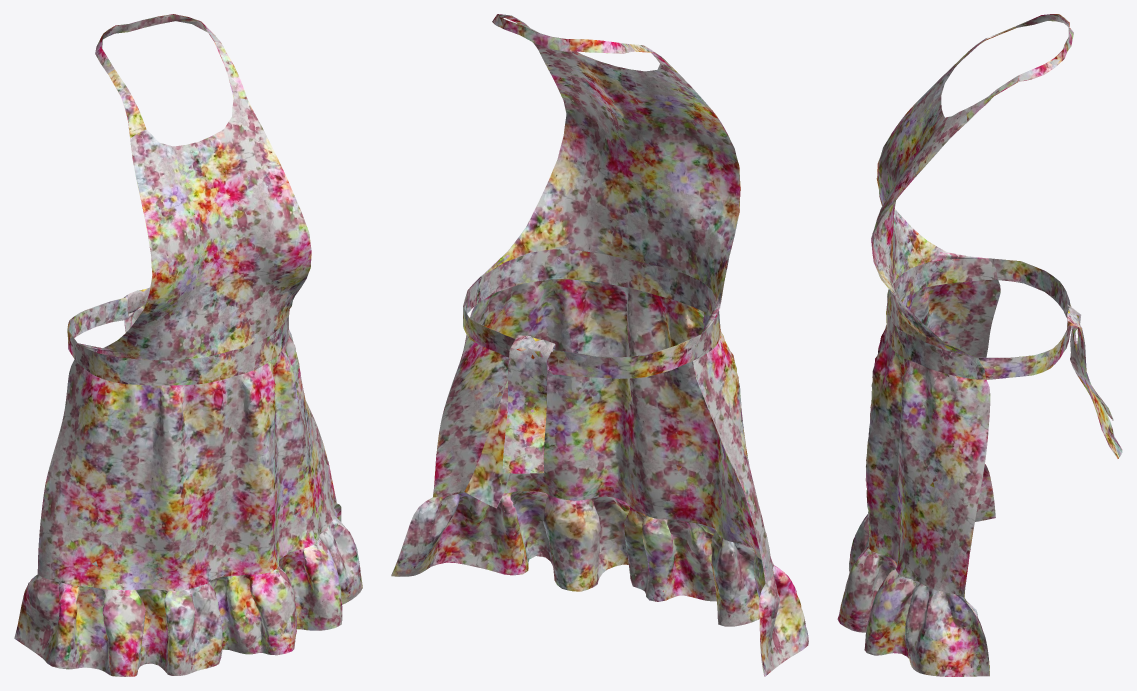
Rendered from elvs-ladies-apron.glb.
The picture shows the model from 3 angles, left to right: view 1: azimuth 30°, elevation 25°; view 2: azimuth 150°, elevation 25°; view 3: azimuth 270°, elevation 25°; orthographic projection. The views are drawn at different scales.
Visible parts, largest first — view 1: ladies apron; view 2: ladies apron; view 3: ladies apron.
Boxes of the visible parts, x1,y1,x2,y2 form: ladies apron: (14,14,362,676); ladies apron: (391,14,808,676); ladies apron: (837,14,1122,676).
Size of the model in its own units: 42.05 by 68.48 by 30.74.
1 material, 1 textured.
